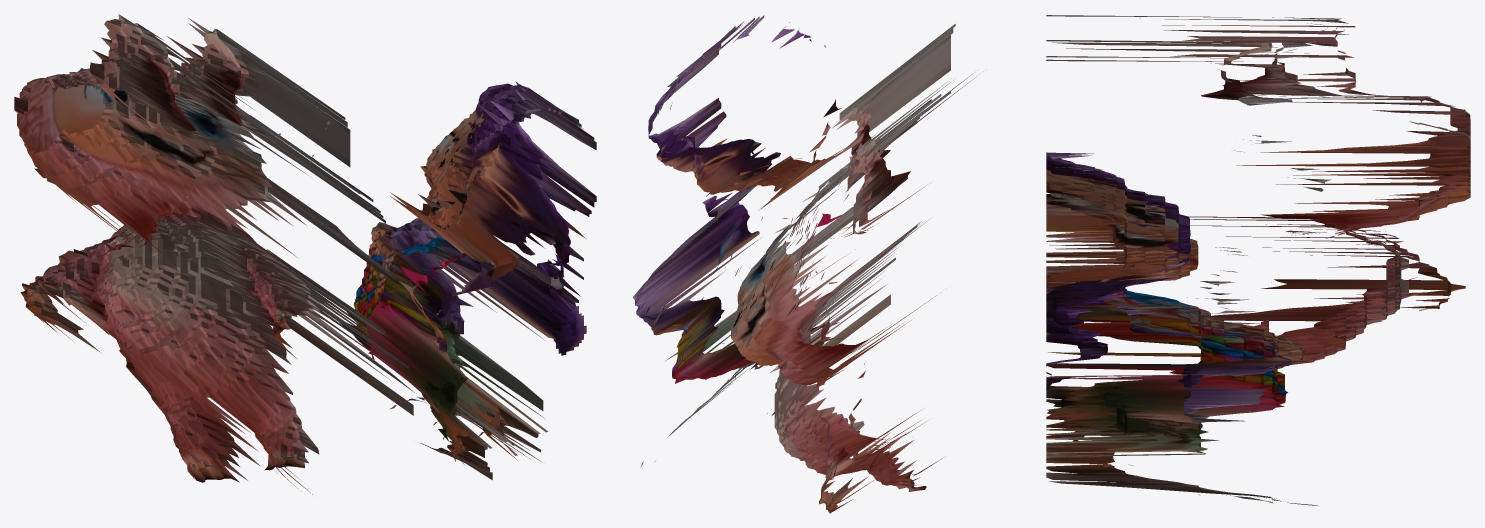
The model's file is frame_00097.glb.
3 renders of one model, left to right at view 1: azimuth 30°, elevation 25°; view 2: azimuth 150°, elevation 25°; view 3: azimuth 270°, elevation 25°, orthographic. The views are drawn at different scales.
Visible parts, largest first — view 1: geometry_0; view 2: geometry_0; view 3: geometry_0.
Part boxes in pixels (<box>): geometry_0: <box>14,14,596,494</box>; geometry_0: <box>633,15,983,513</box>; geometry_0: <box>1046,15,1470,505</box>.
Size of the model in its own units: 0.1367 by 0.1626 by 0.16.
1 material, 1 textured.
